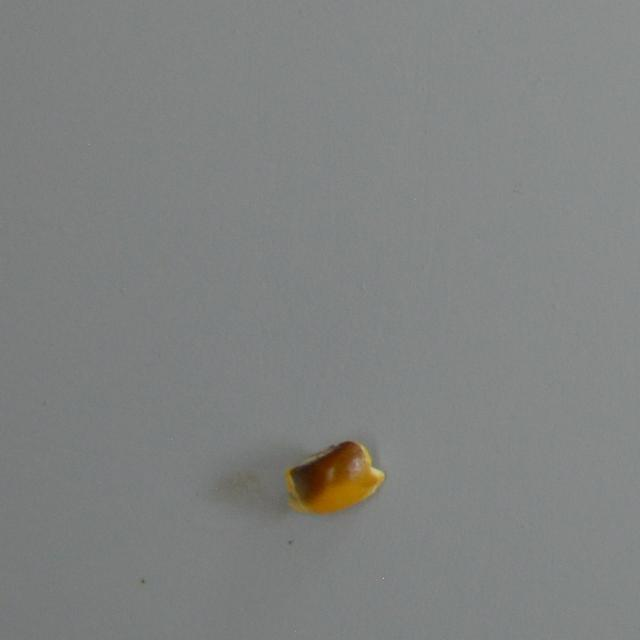dañado: (278, 418, 392, 526)
